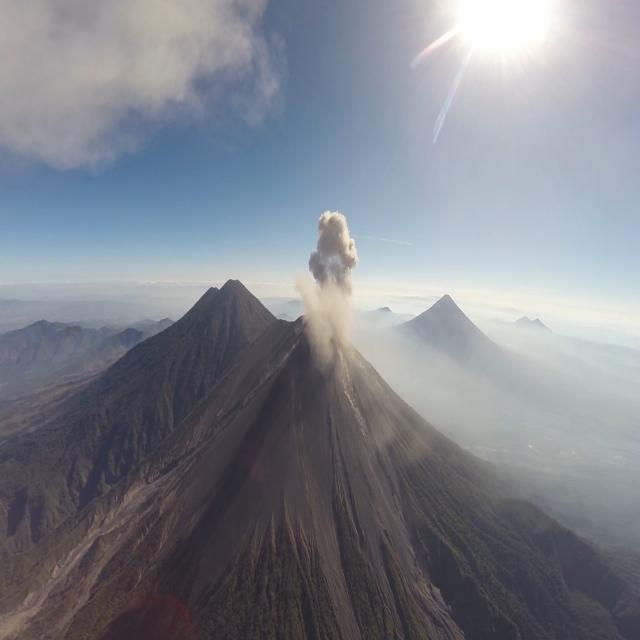Plume: (8, 1, 286, 186), (307, 205, 360, 312)
Summit: (289, 310, 396, 401)
